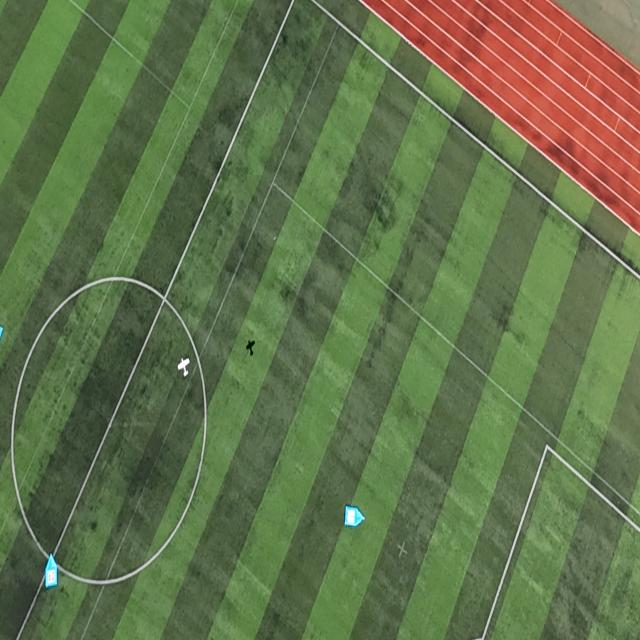board: (45, 552, 57, 589), (345, 506, 366, 527)
